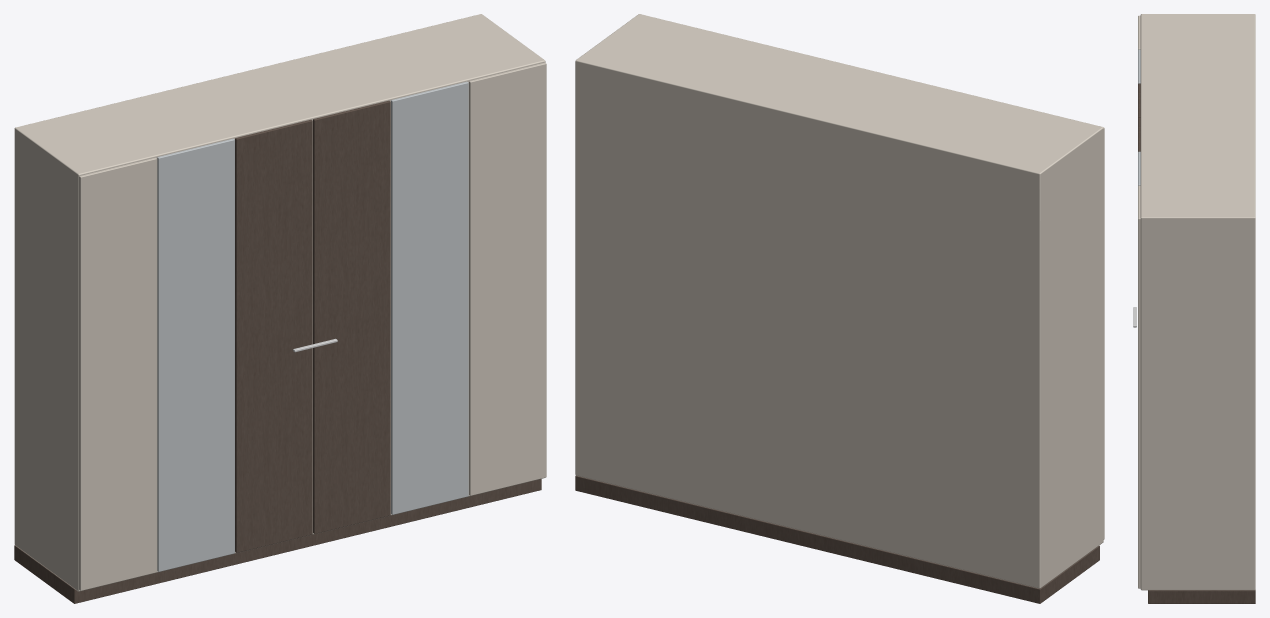
Rendered from talya-bedset-with-wardrobe--wardrobe.glb.
3 views of the same model, side by side, from view 1: azimuth 30°, elevation 25°; view 2: azimuth 150°, elevation 25°; view 3: azimuth 270°, elevation 25° (orthographic). The views are drawn at different scales.
Visible parts, largest first — view 1: body, door1, door0, door4, door5, door2, door3, plinth; view 2: body, plinth, door0; view 3: body, plinth, door5.
Boxes of the visible parts, <box> form: body: <box>14,14,545,591</box>; door1: <box>157,138,234,571</box>; door0: <box>79,157,156,590</box>; door4: <box>391,81,468,514</box>; door5: <box>469,62,546,495</box>; door2: <box>235,119,312,552</box>; door3: <box>313,100,390,533</box>; plinth: <box>14,479,541,603</box>; body: <box>575,14,1103,588</box>; plinth: <box>575,475,1099,603</box>; door0: <box>1103,127,1104,539</box>; body: <box>1140,14,1255,590</box>; plinth: <box>1148,590,1255,603</box>; door5: <box>1138,185,1140,588</box>.
Size of the model in its own units: 2.6 by 2.3 by 0.66.
4 materials, 1 textured.
